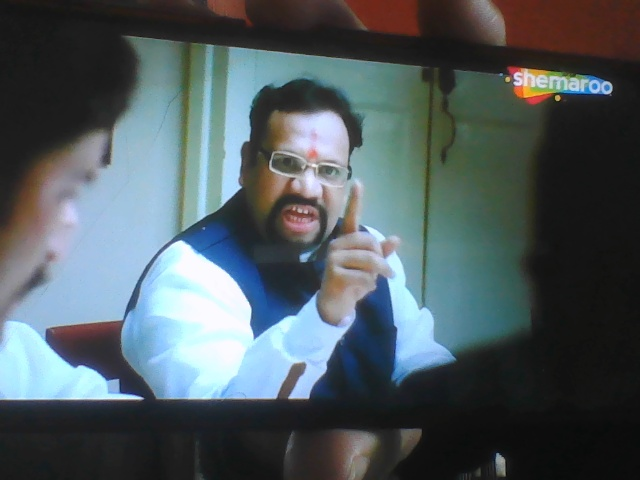fake: (225, 72, 361, 265)
